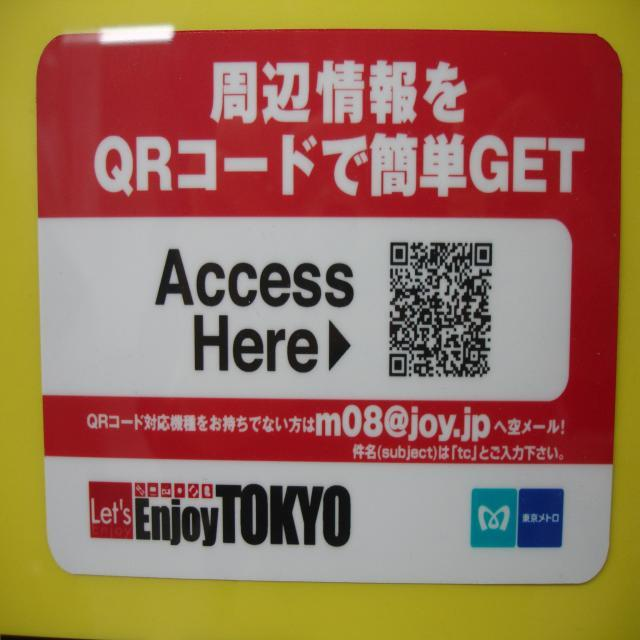qr-code: (389, 242, 492, 377)
